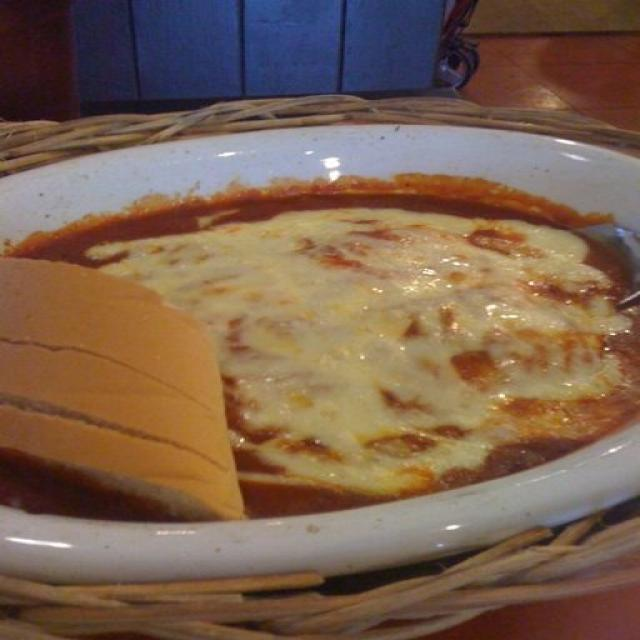Lasagna: (230, 206, 634, 455)
